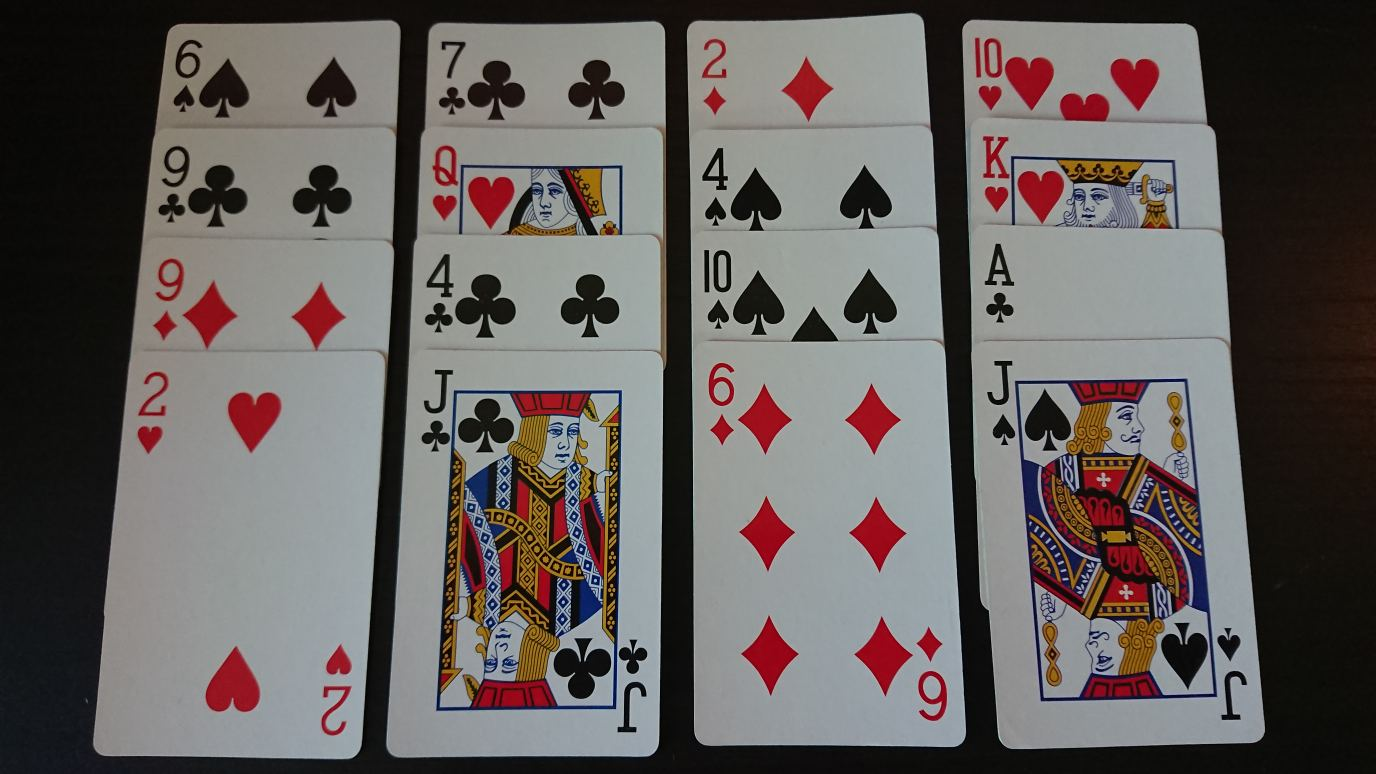10H: (969, 31, 1006, 115)
10S: (696, 242, 734, 335)
2D: (696, 35, 731, 117)
2H: (133, 367, 171, 457)
4C: (421, 249, 458, 339)
4S: (696, 143, 731, 231)
6D: (704, 359, 740, 451)
6S: (169, 37, 205, 118)
7C: (435, 37, 469, 120)
9C: (154, 141, 193, 227)
9D: (149, 255, 186, 344)
AC: (981, 239, 1019, 327)
JC: (417, 366, 457, 457)
JS: (980, 353, 1024, 451)
KH: (977, 131, 1014, 217)
QH: (427, 141, 463, 225)
